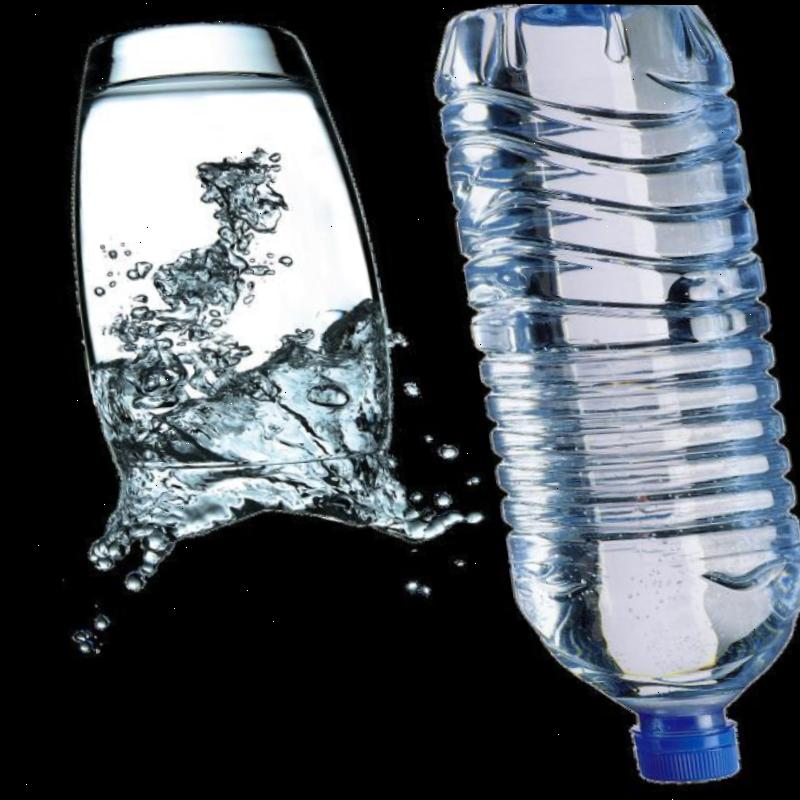botella: (414, 2, 800, 793)
